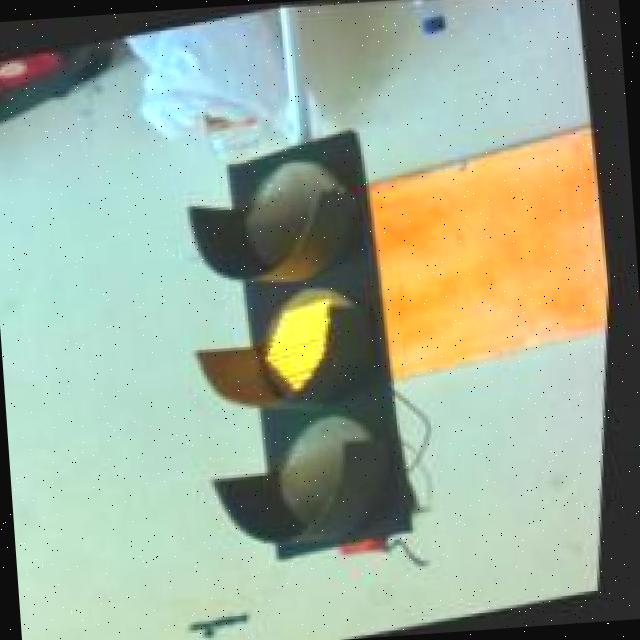yellow_light: (144, 126, 458, 576)
